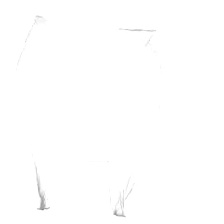plastic_bag: (10, 11, 168, 220)
